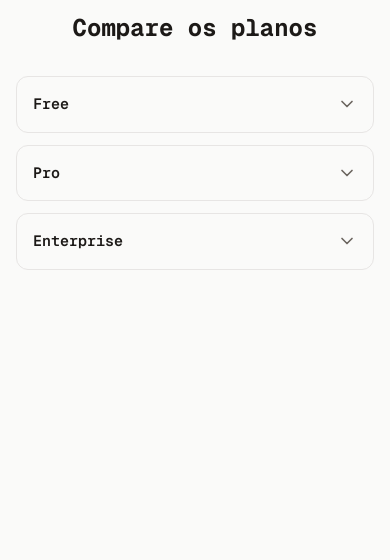
ComparisonTable › mobile accordion › clicking a plan button sets aria-expanded to true
Step 1. Click the button "Free" → (51, 104), box left=17, top=77, right=373, bottom=132
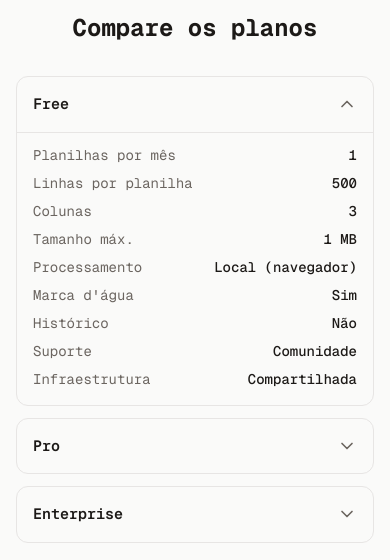
Result: the button "Free" is expanded at left=17, top=77, right=373, bottom=132
